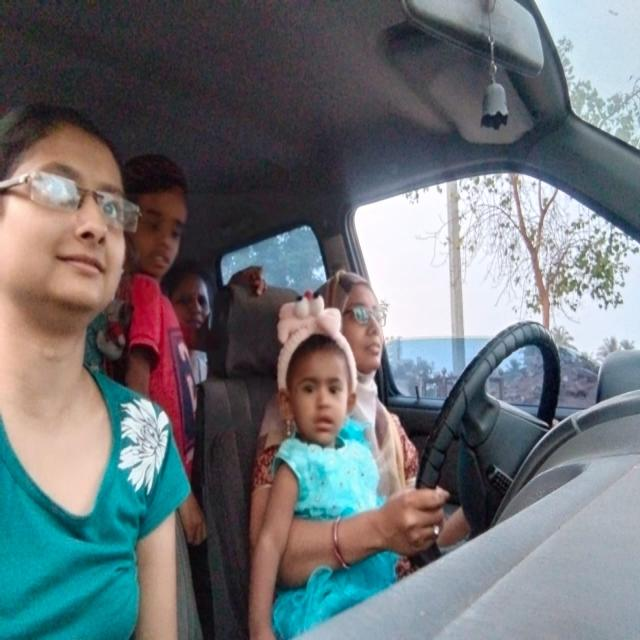child: (275, 290, 361, 453)
person: (1, 93, 134, 362), (124, 140, 194, 295), (322, 270, 392, 375), (174, 263, 215, 342)
